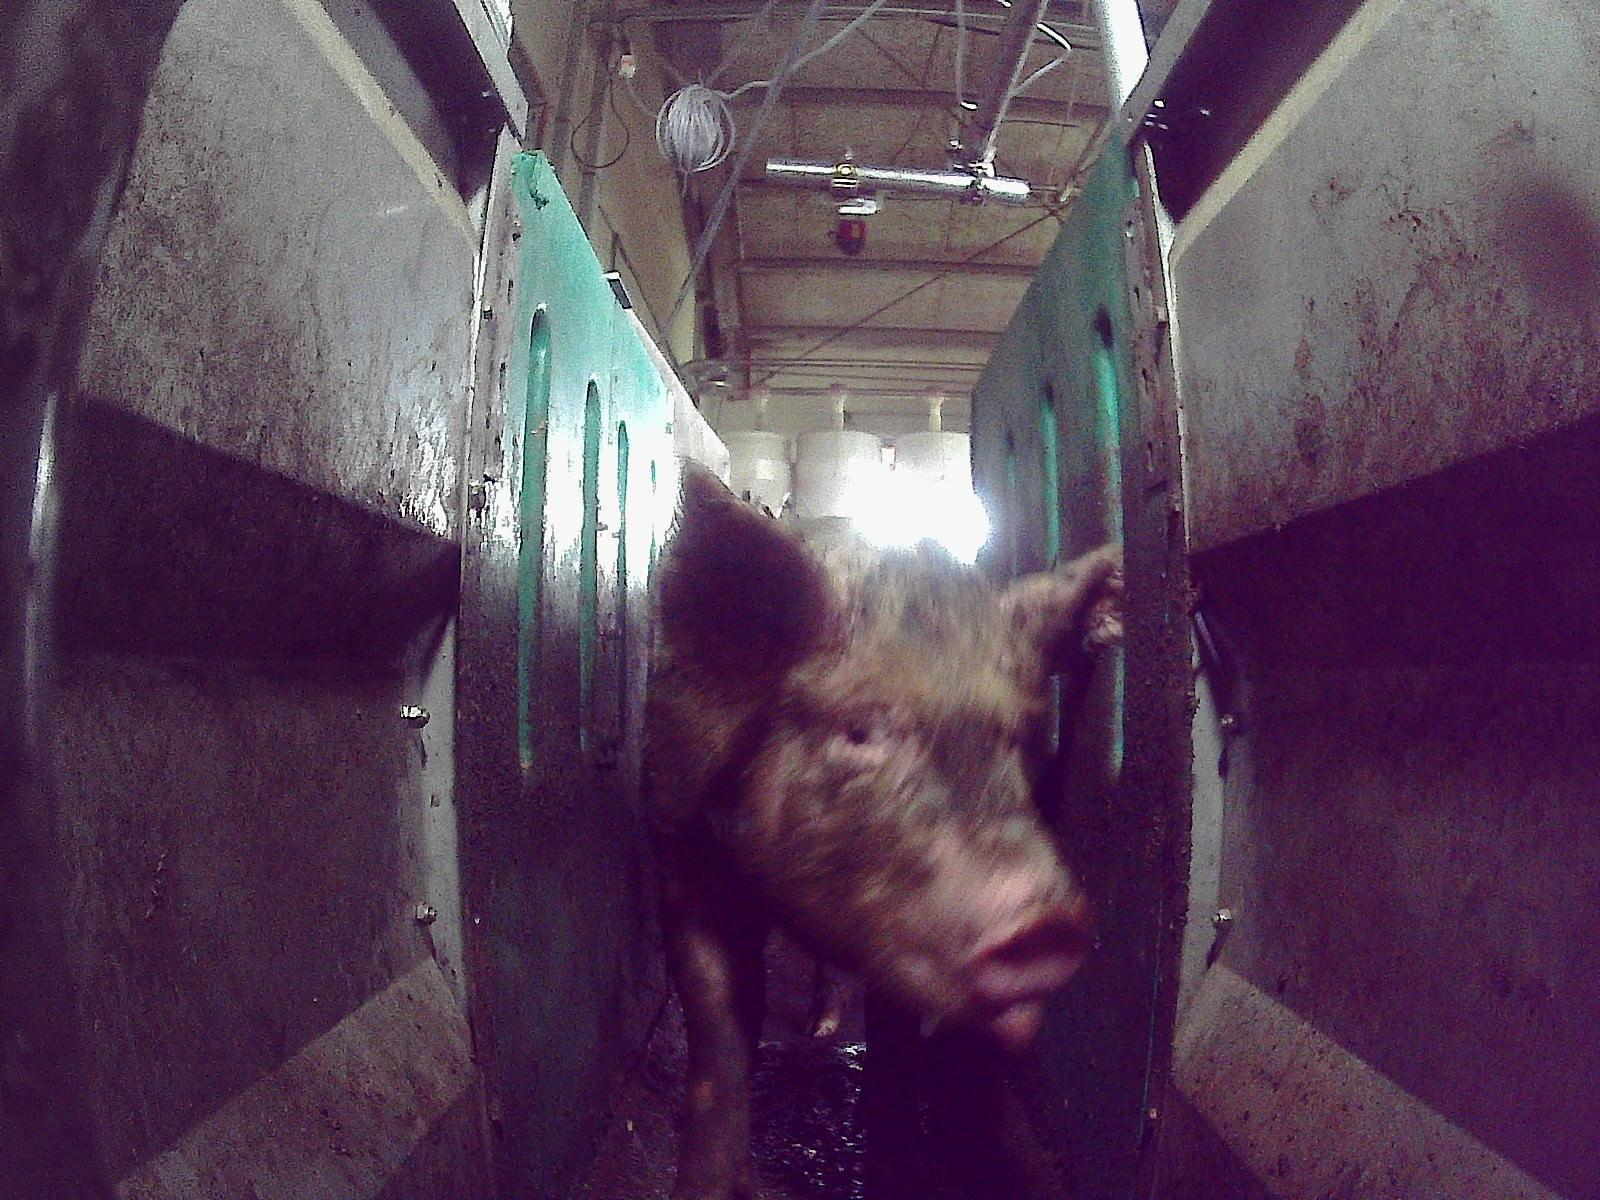Face: (694, 545, 1095, 1051)
